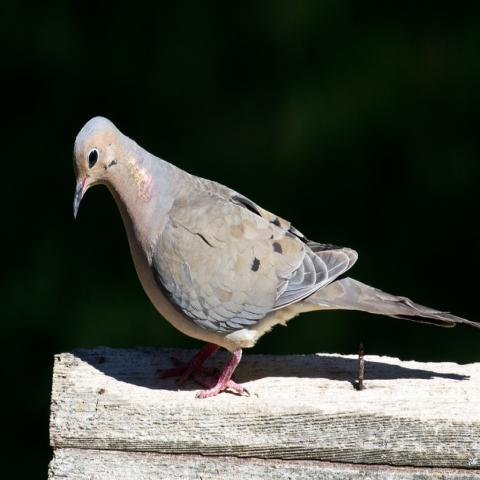bird: (69, 112, 477, 401)
